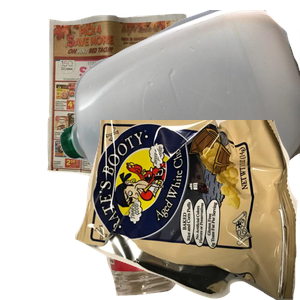glass: (91, 142, 260, 300)
paper: (44, 11, 229, 181)
plastic: (60, 10, 300, 190)
trash: (75, 120, 300, 300)
